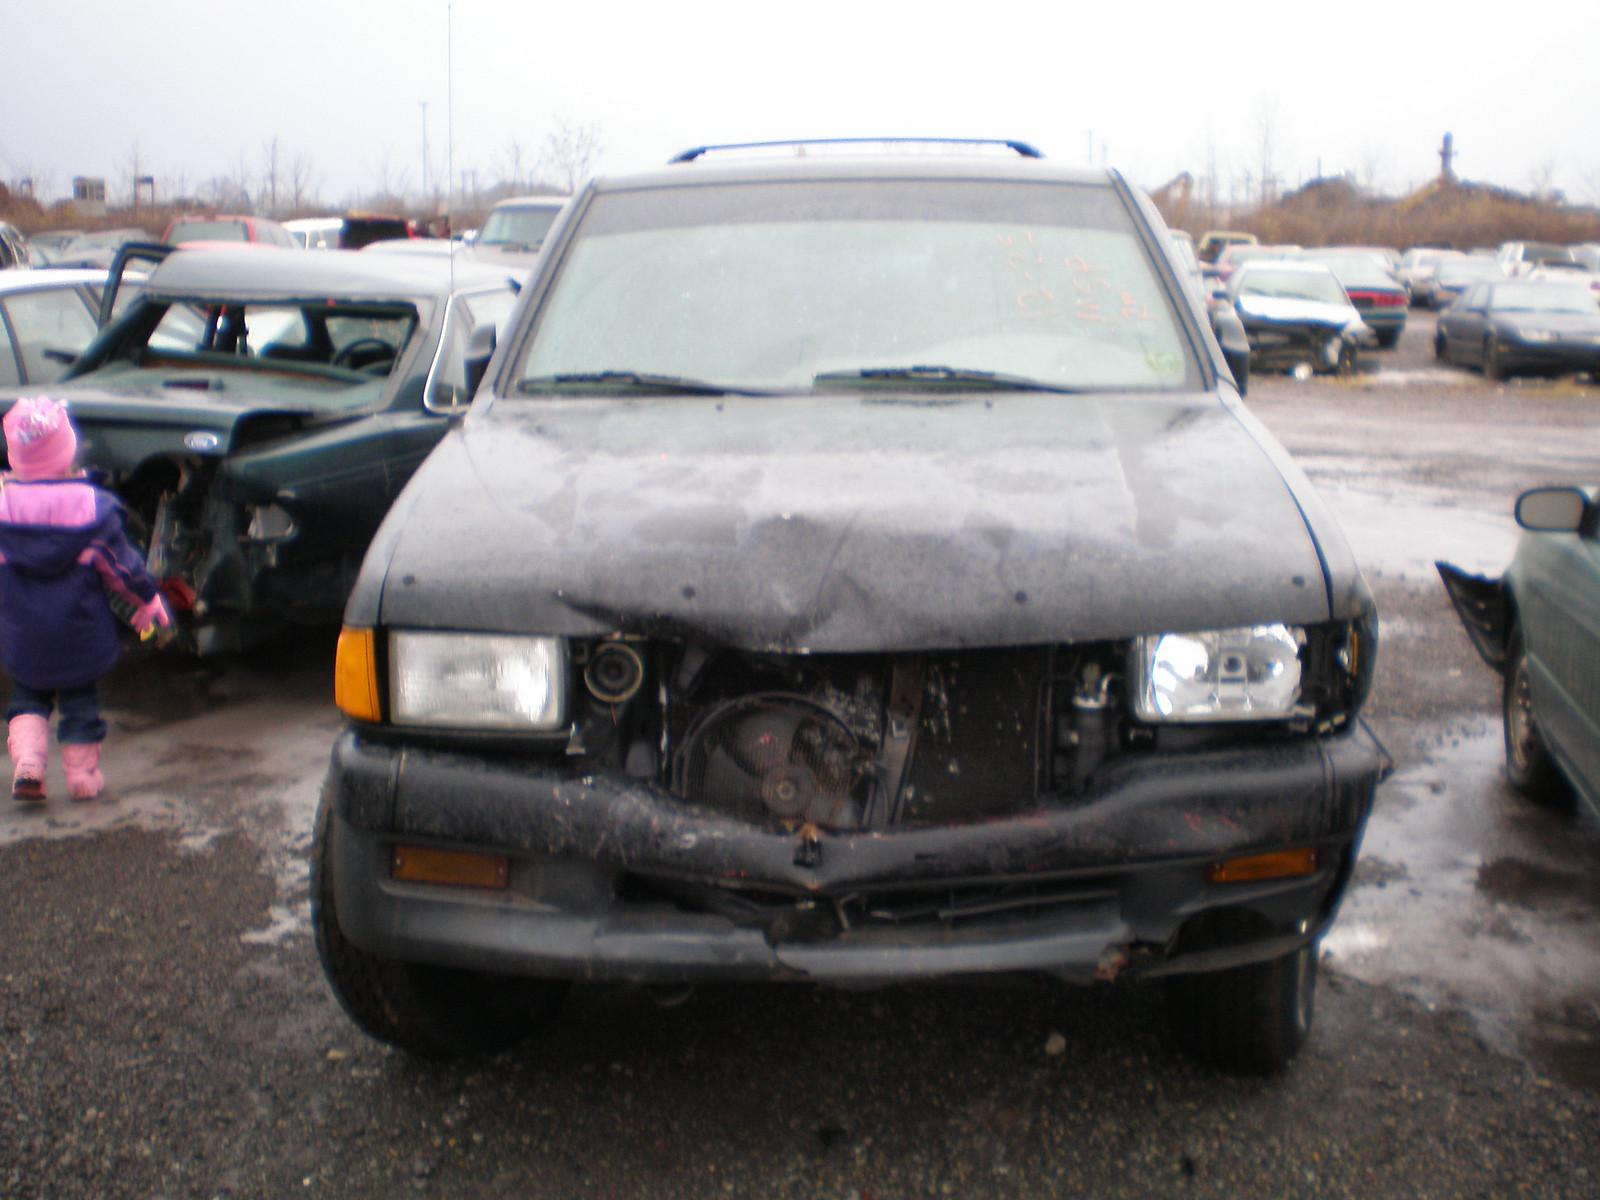bonnet-dent: (459, 393, 1277, 645)
front-bumper-dent: (411, 633, 1233, 969)
